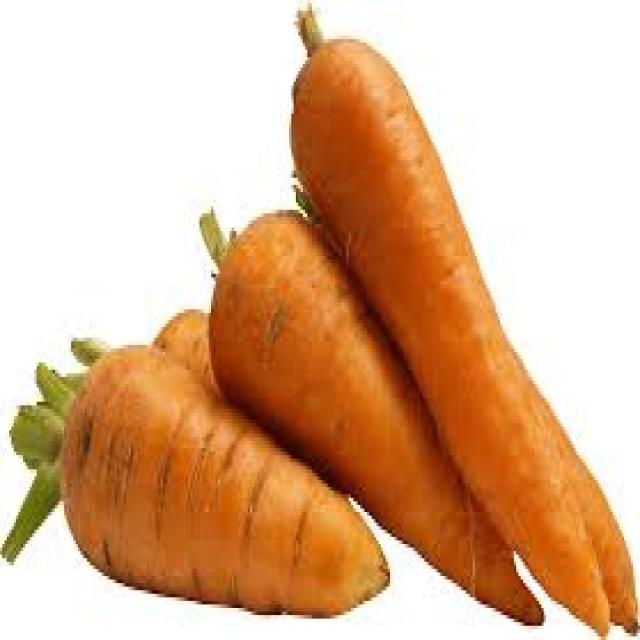biodegradable: (287, 0, 608, 636), (197, 203, 544, 626), (0, 341, 388, 619), (507, 342, 638, 637), (69, 306, 218, 391)
